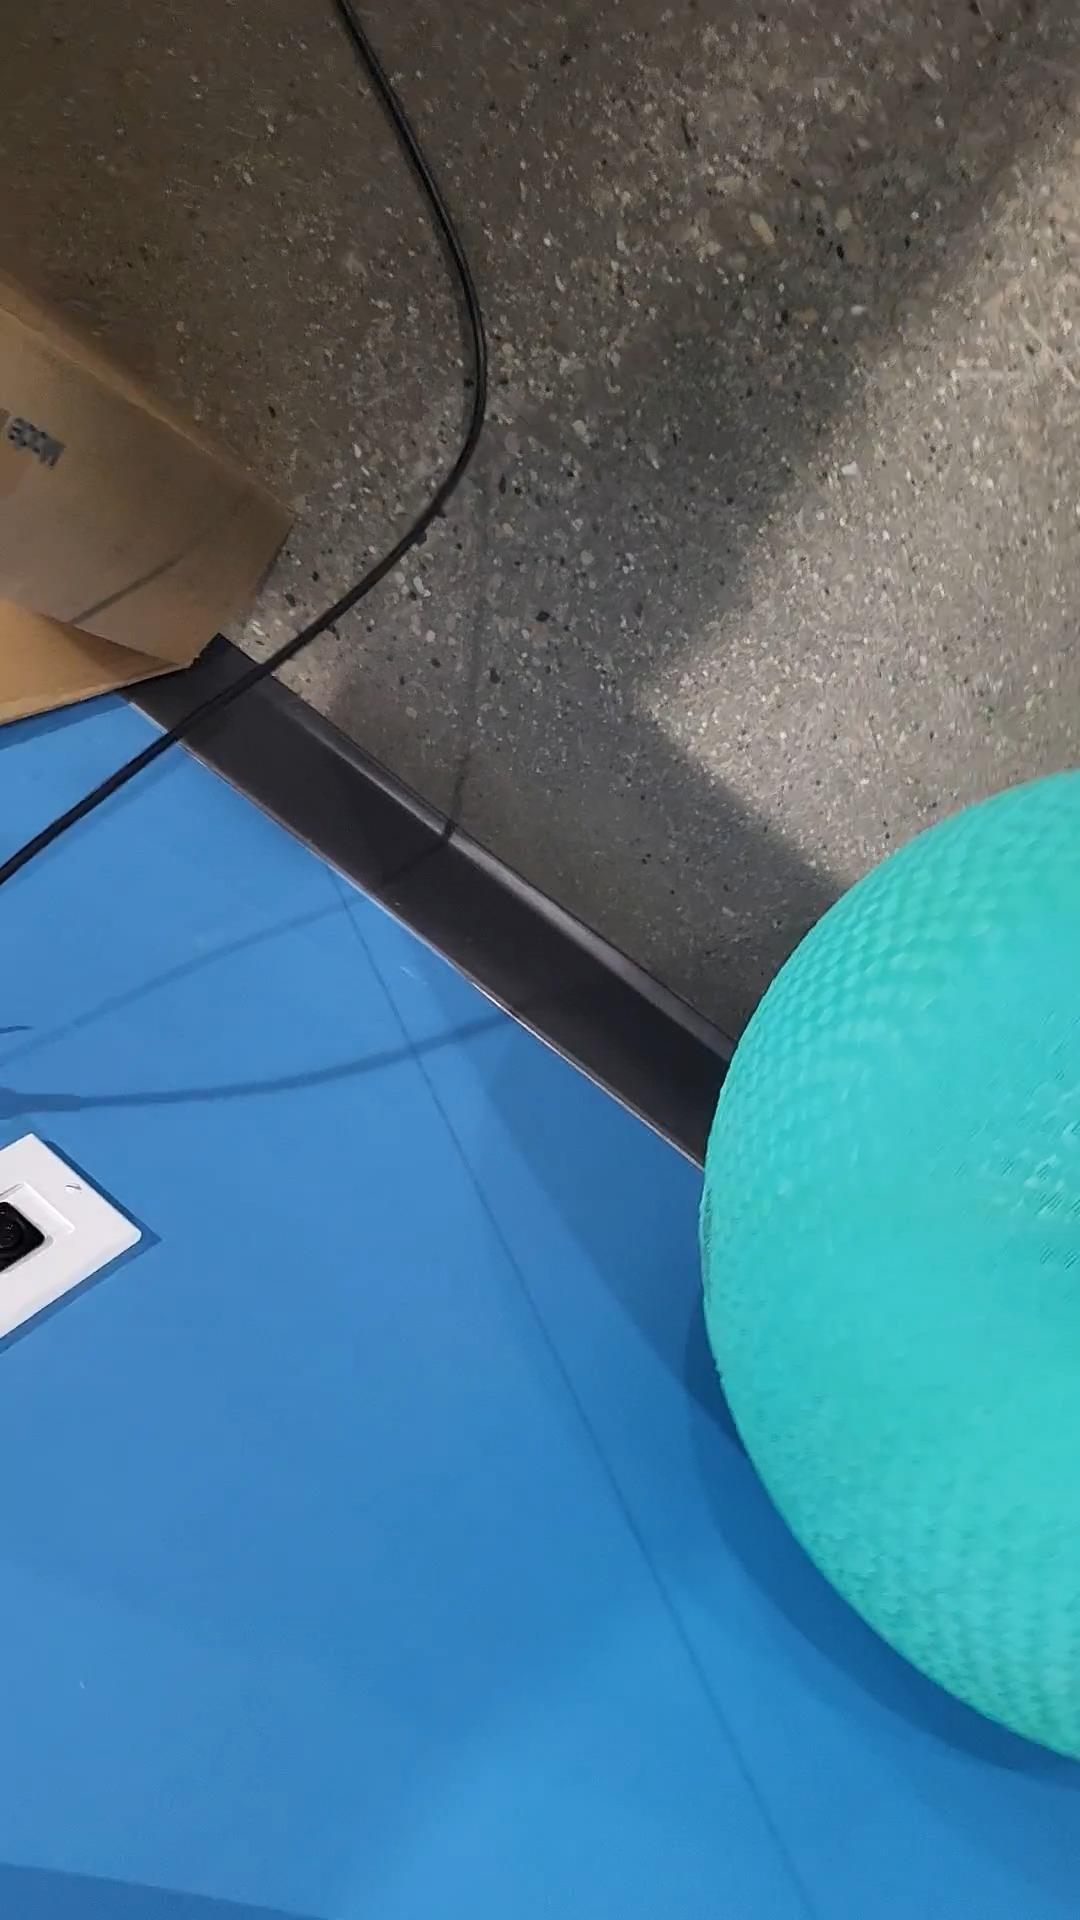algae: (705, 770, 1080, 1753)
